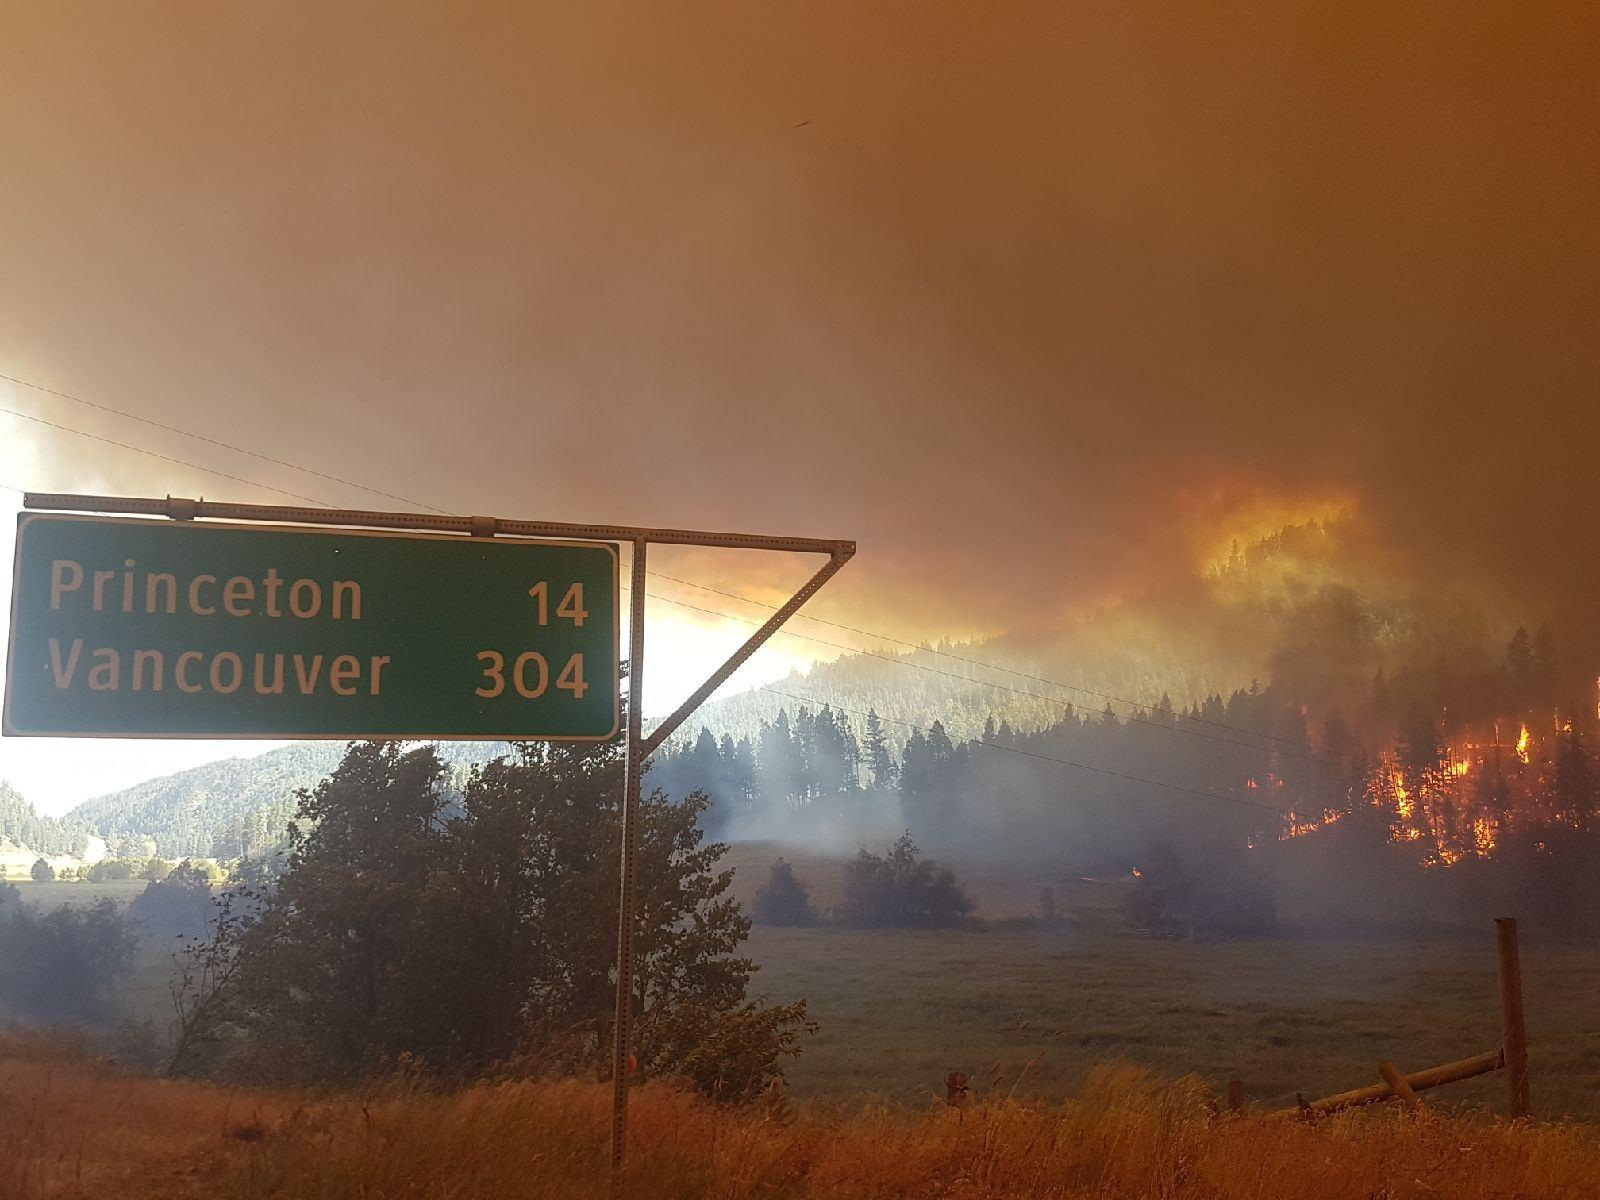Fire: (1372, 701, 1597, 872)
